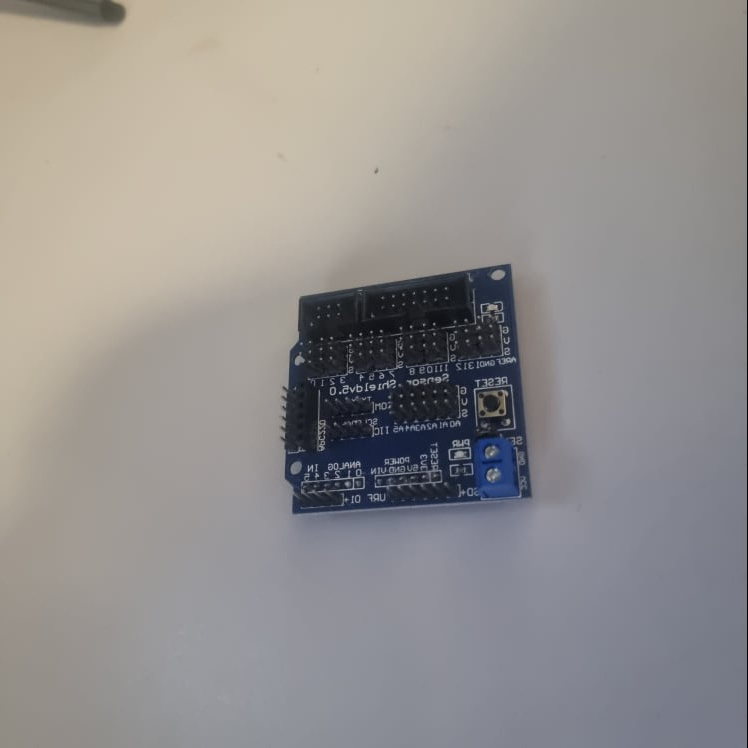5V EXPANSION: (287, 263, 532, 515)
